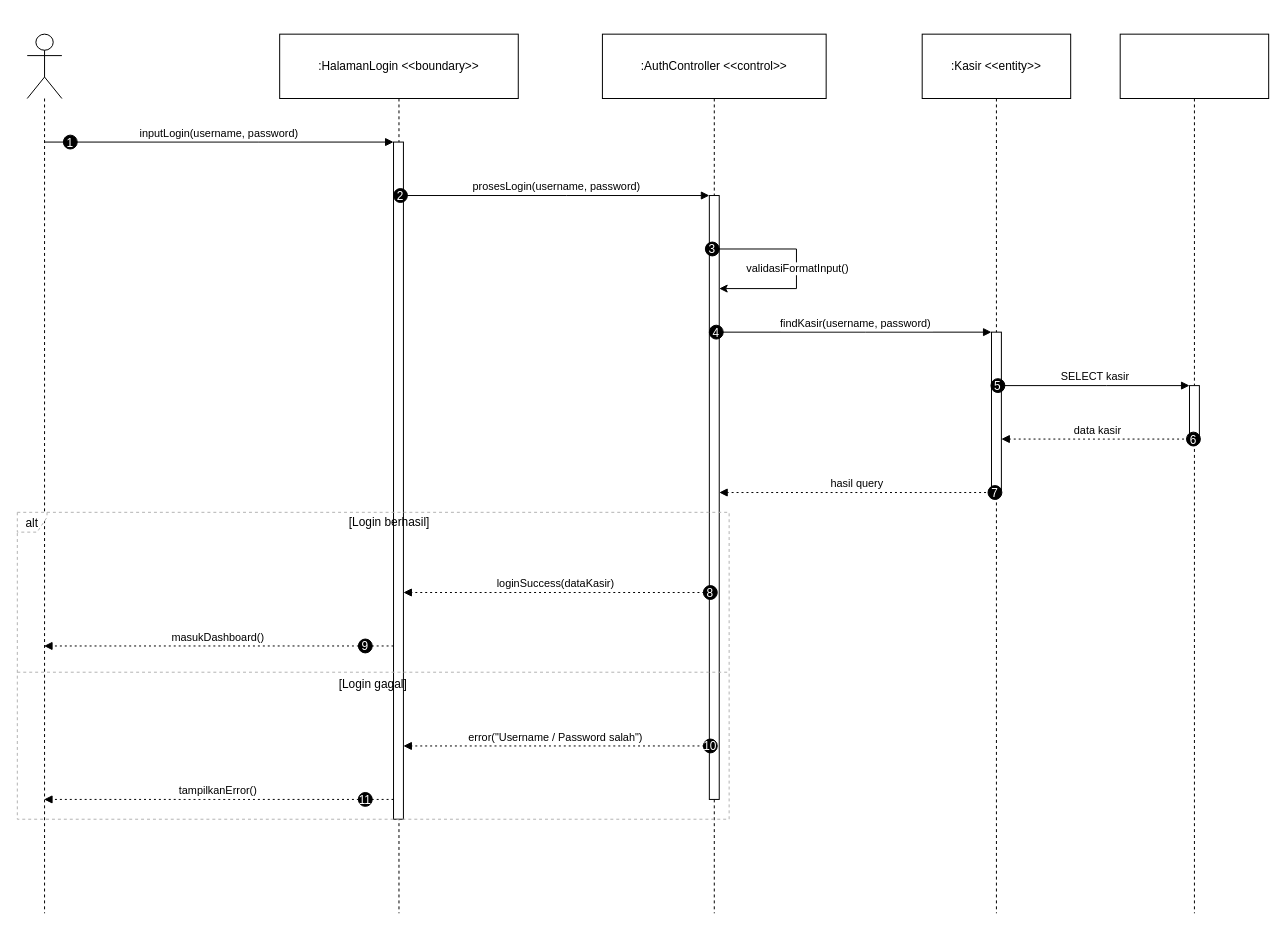
Some shapes in this 1286 by 931 pixel diagram are drawn without their labels. The shapes that lost their labels are listed below. From the top down, each one's box as (x1, y1, x2, y2) in pixels, then its label:
(26, 33, 62, 913): Kasir
(1119, 33, 1269, 913): :Database
